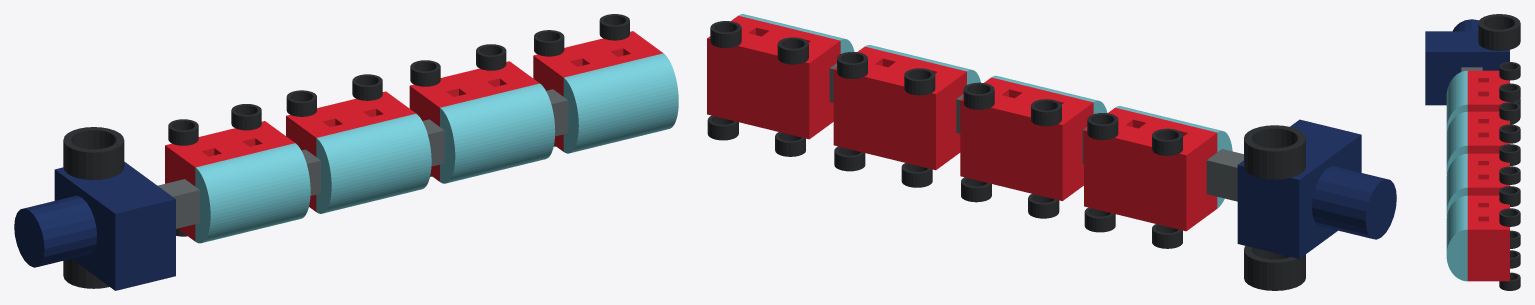
The model's file is tinker.obj.
3 views of the same model, side by side, from view 1: azimuth 30°, elevation 25°; view 2: azimuth 150°, elevation 25°; view 3: azimuth 270°, elevation 25° (orthographic). The views are drawn at different scales.
Visible parts, largest first — view 1: group_0_7720667, group_0_15277357, group_0_1650274, group_0_2829873, group_0_6383466; view 2: group_0_15277357, group_0_2829873, group_0_1650274, group_0_7720667, group_0_6383466; view 3: group_0_15277357, group_0_2829873, group_0_7720667, group_0_1650274, group_0_6383466.
Boxes of the visible parts, x1,y1,x2,y2 form: group_0_7720667: [195, 53, 678, 243]; group_0_15277357: [165, 31, 662, 241]; group_0_1650274: [14, 161, 175, 290]; group_0_2829873: [63, 14, 629, 288]; group_0_6383466: [158, 89, 568, 228]; group_0_15277357: [707, 15, 1217, 231]; group_0_2829873: [707, 21, 1305, 290]; group_0_1650274: [1237, 119, 1396, 258]; group_0_7720667: [739, 14, 1232, 208]; group_0_6383466: [829, 63, 1243, 201]; group_0_15277357: [1467, 70, 1509, 281]; group_0_2829873: [1478, 14, 1520, 290]; group_0_7720667: [1446, 70, 1467, 281]; group_0_1650274: [1425, 19, 1509, 105]; group_0_6383466: [1461, 67, 1482, 71].
Bounding box in the file's own units: 240 × 49.5 × 45.
